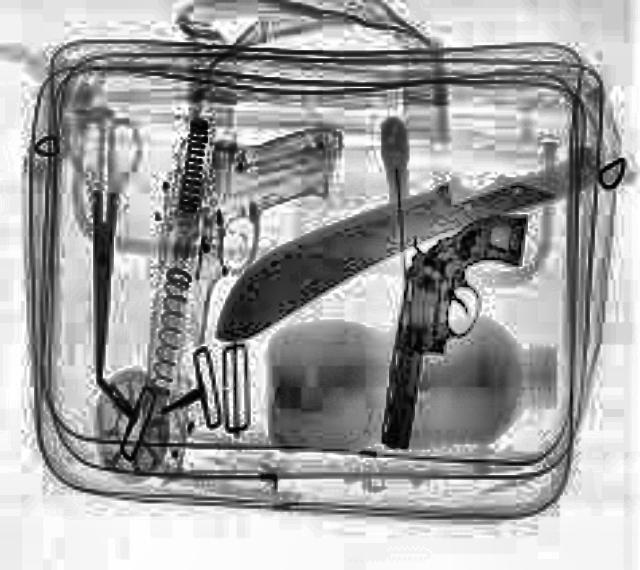Gun: (375, 209, 525, 445)
Knife: (210, 175, 554, 337)
